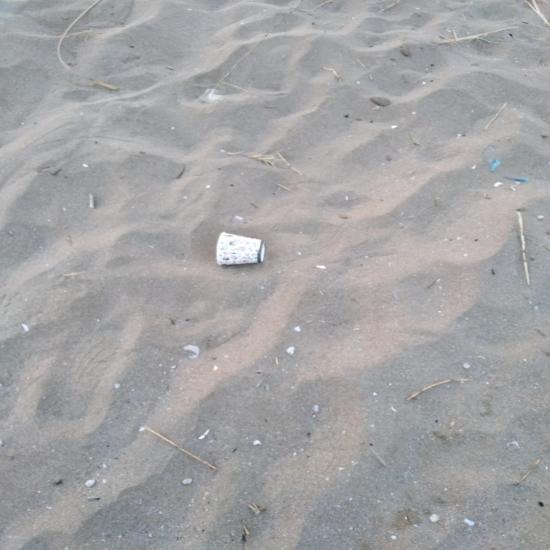Clear plastic bottle: (53, 12, 115, 29)
Foam food container: (307, 271, 363, 376)
Plastic bottle cap: (137, 232, 149, 241), (107, 20, 115, 26)
Plastic film: (19, 235, 91, 285), (269, 40, 324, 62), (124, 251, 168, 277), (439, 221, 475, 239)
Plastic lid: (89, 288, 135, 330)
Unlabeled litter: (534, 267, 550, 283)
